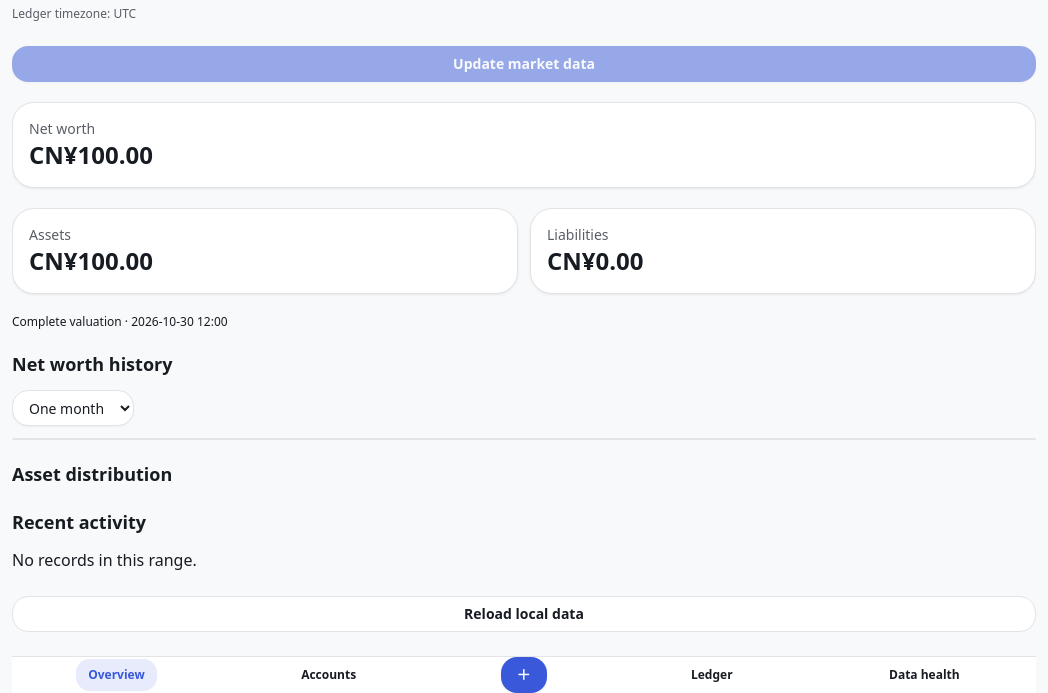
Test: mobile financial interruption flow › keeps the reviewed payload and one operation ID through a lost response and repeated clicks
(page scrolled)
Click the button named "Quick record" at (524, 675), box [501,657,547,692]
(page scrolled)
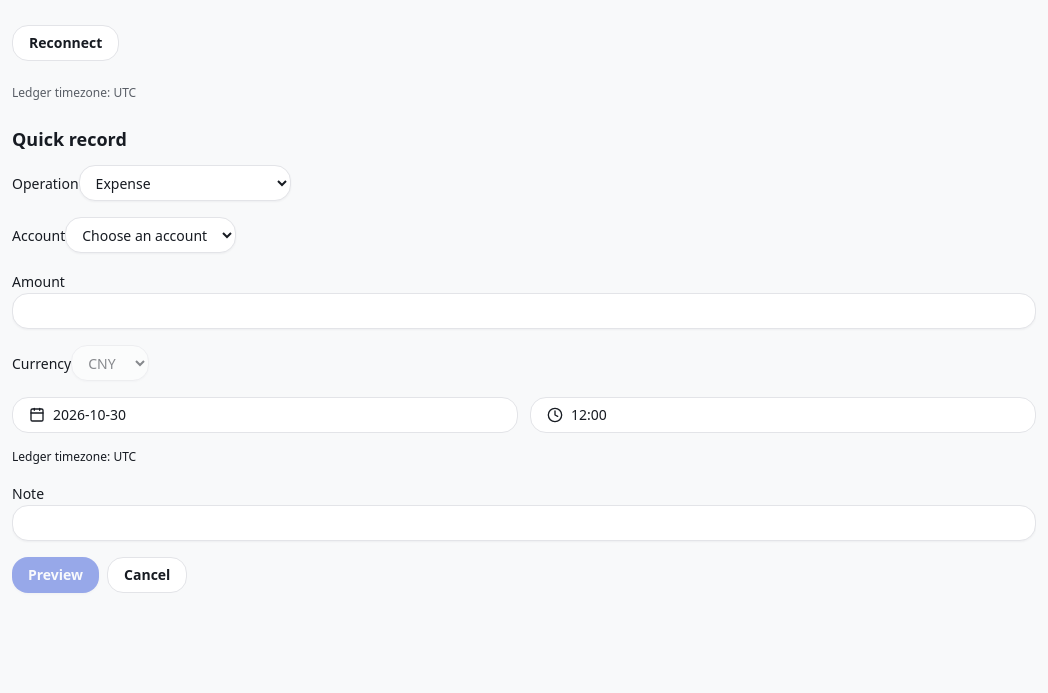
Select "Synthetic bank" in the dropdown named "Account" at (151, 235), box [65,217,236,253]
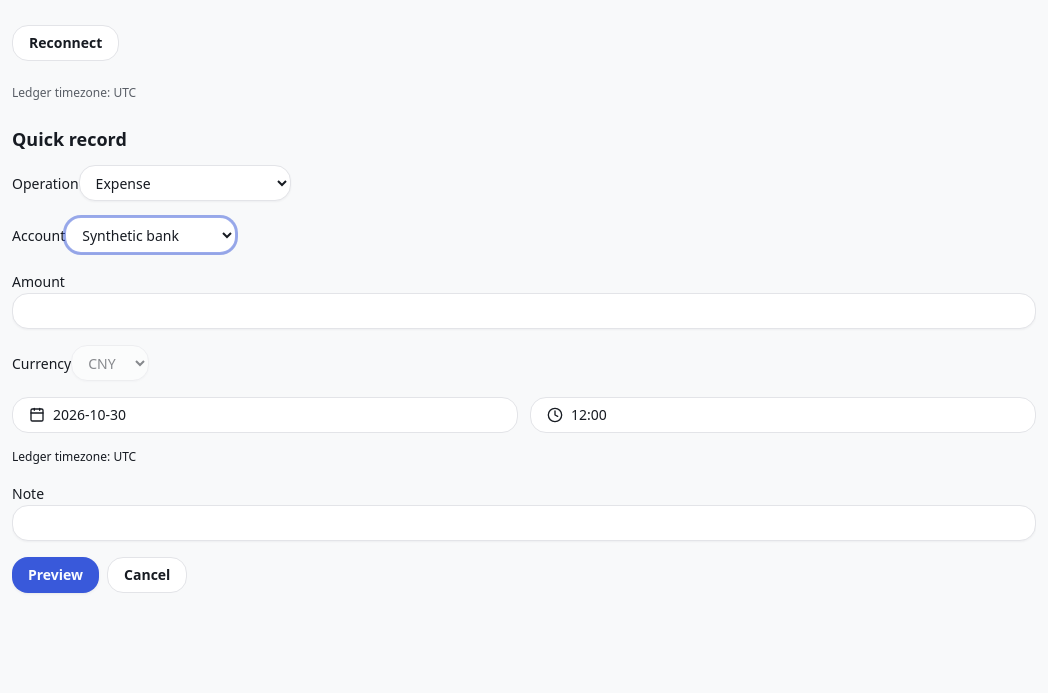
Type "1.2345" into the field named "Amount" at (524, 311), box [12,293,1036,329]
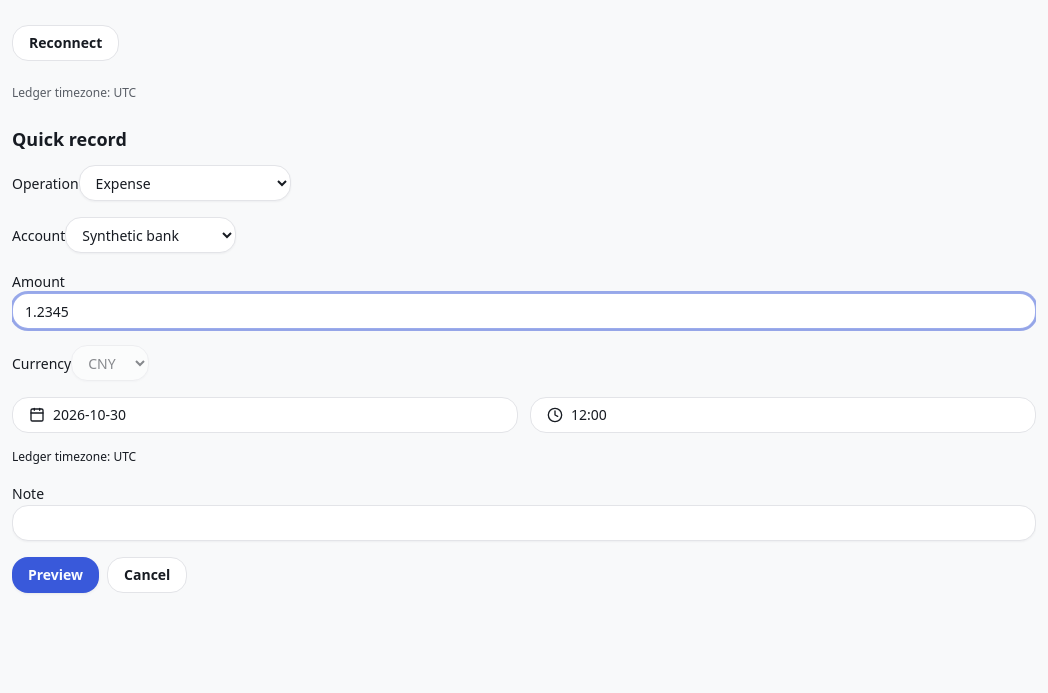
Click the button "Preview" at (56, 575), box [12,557,99,593]
(page scrolled)
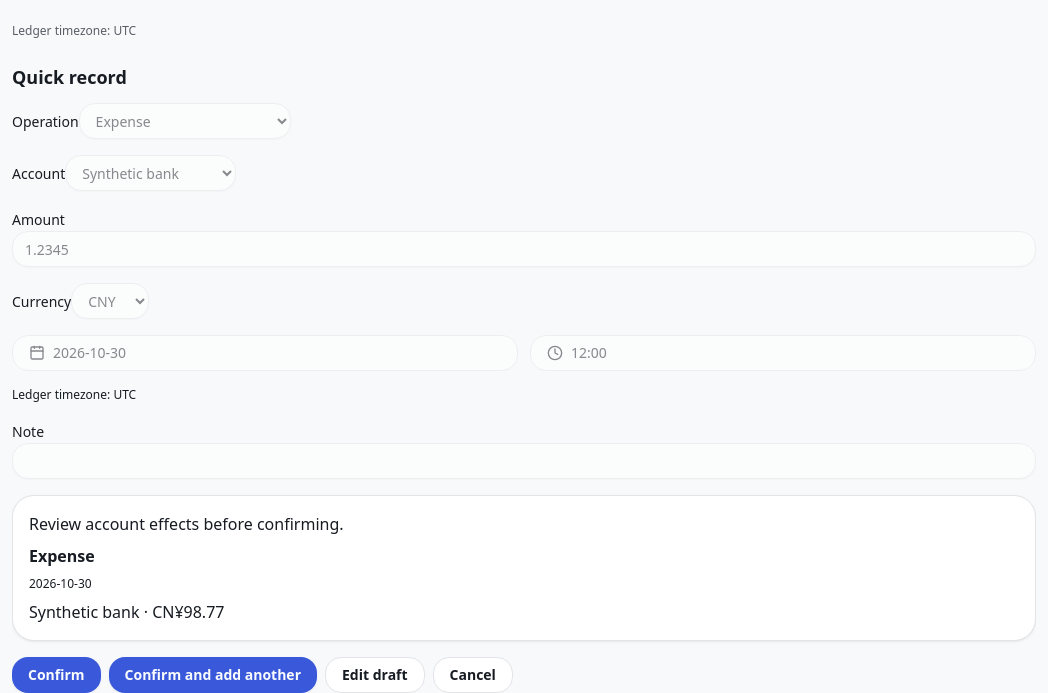
Expected: the field named "Amount" is disabled, [12,231,1036,267]
Expected: the text "Review account effects before confirming." is shown, [29,513,344,535]
Double-click the button "Confirm" at (56, 675), box [12,657,101,692]
(page scrolled)
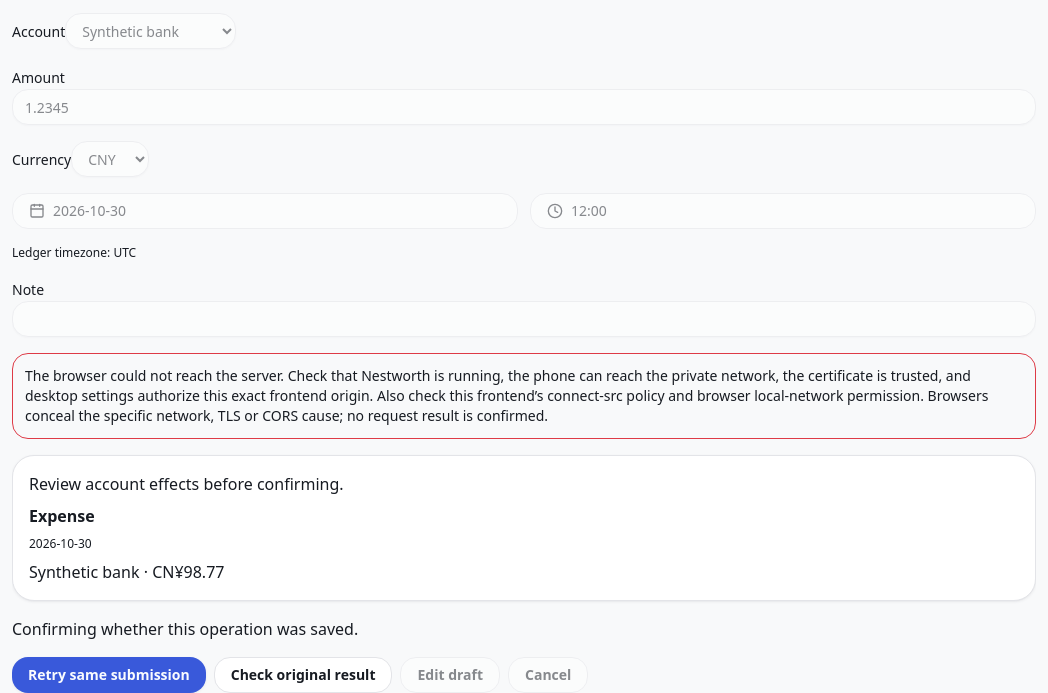
Expected: the button "Cancel" is disabled, [508,657,588,692]
Click the button "Retry same submission" at (109, 675), box [12,657,206,692]
(page scrolled)
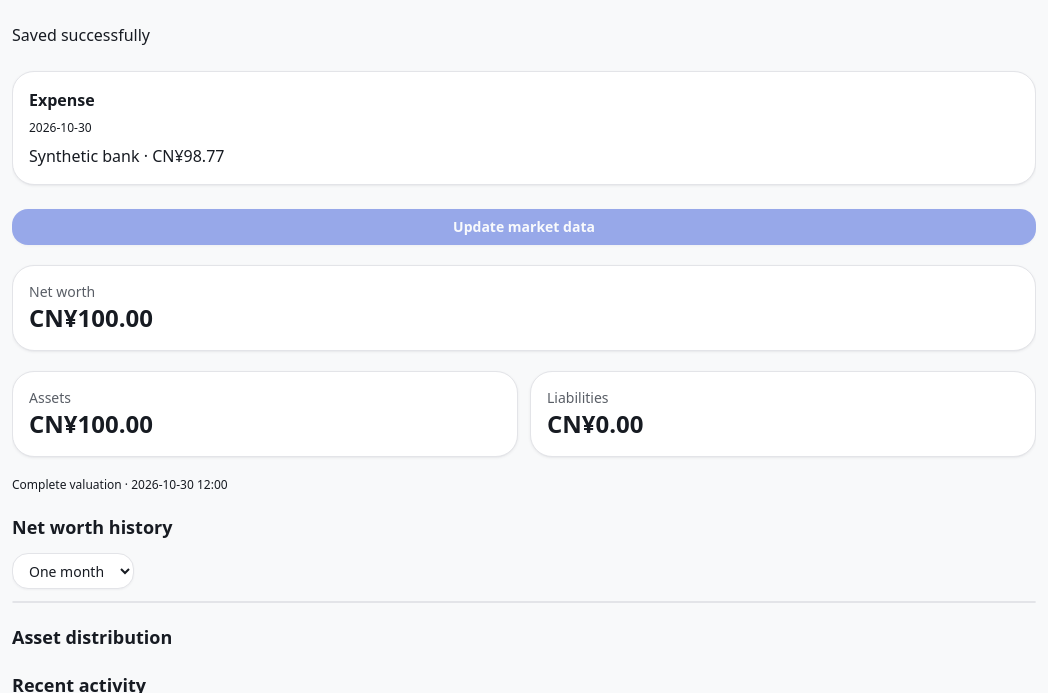
Expected: the text "Saved successfully" is shown, [12,24,150,46]
